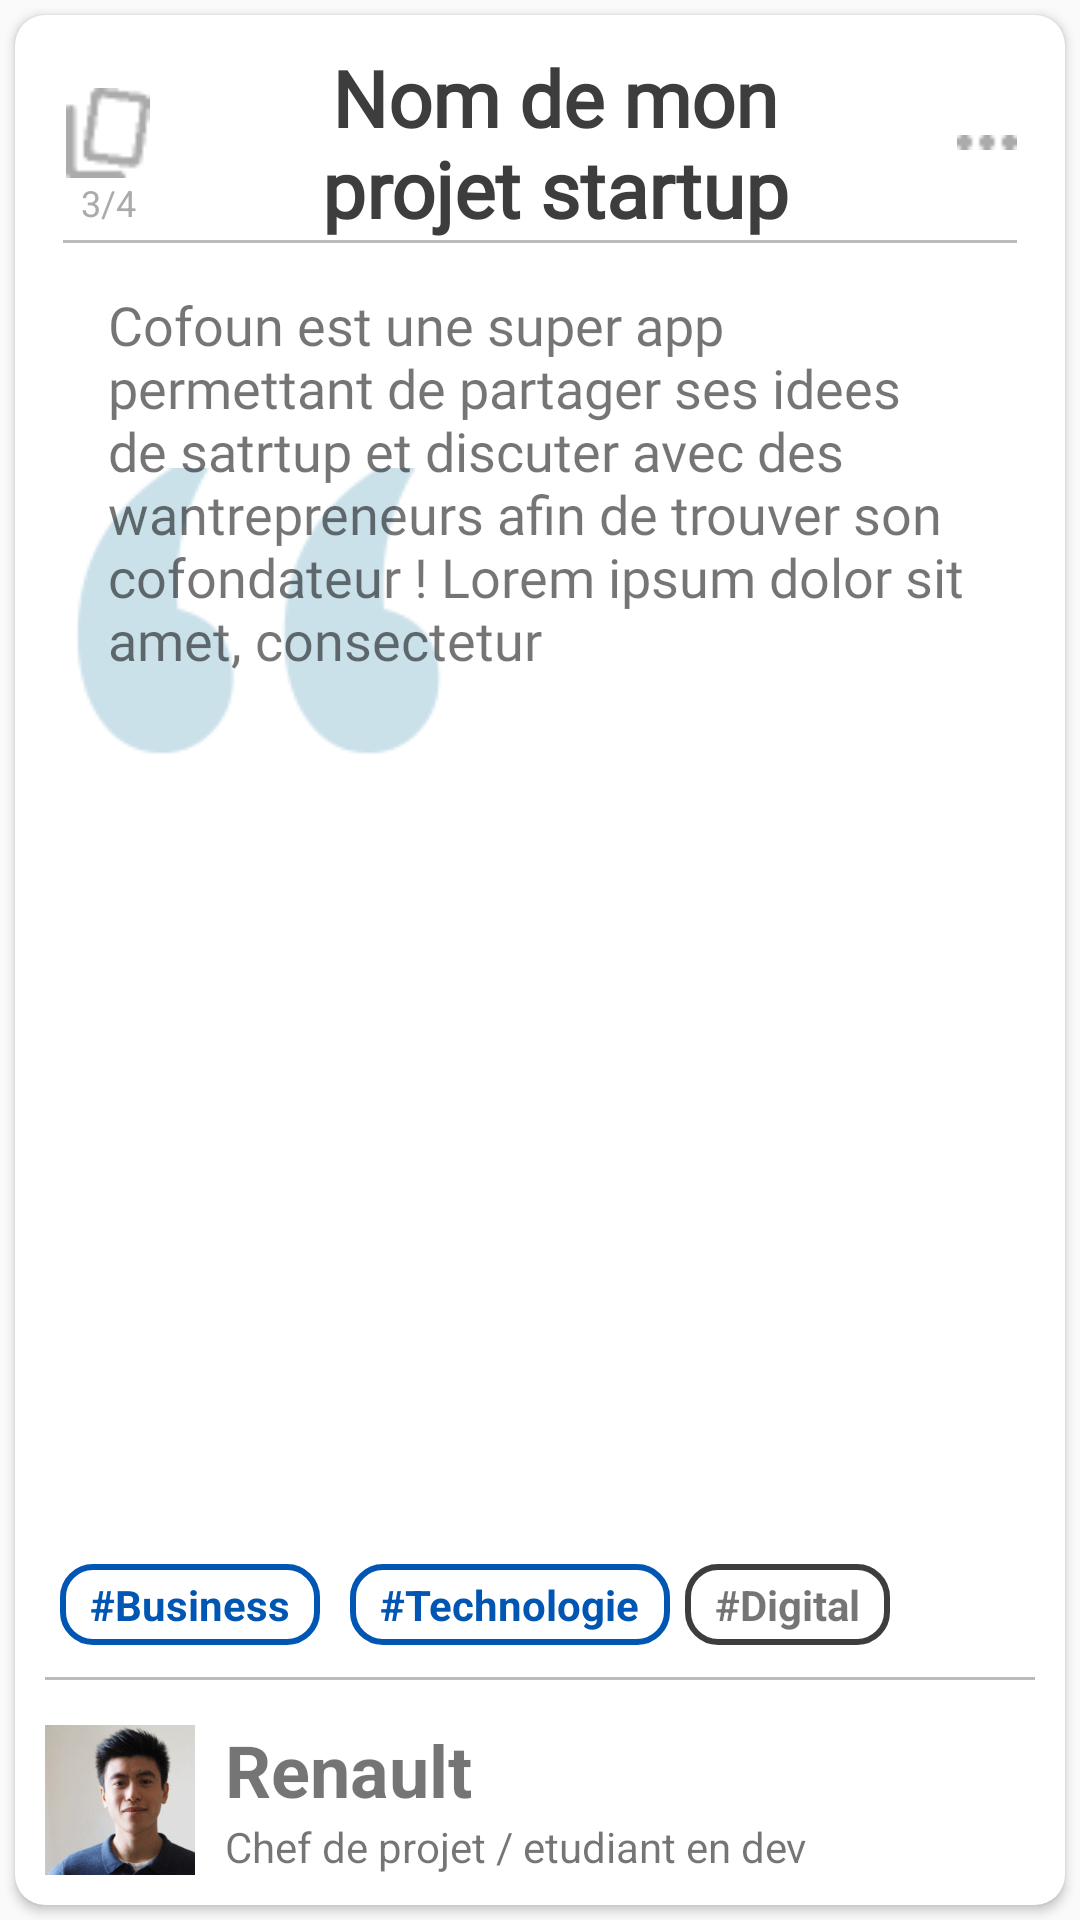

Where to tap for icons on this 1080×1920 app screen, as [x,y]:
Displays information on how many pitches are still left: [108,133]
